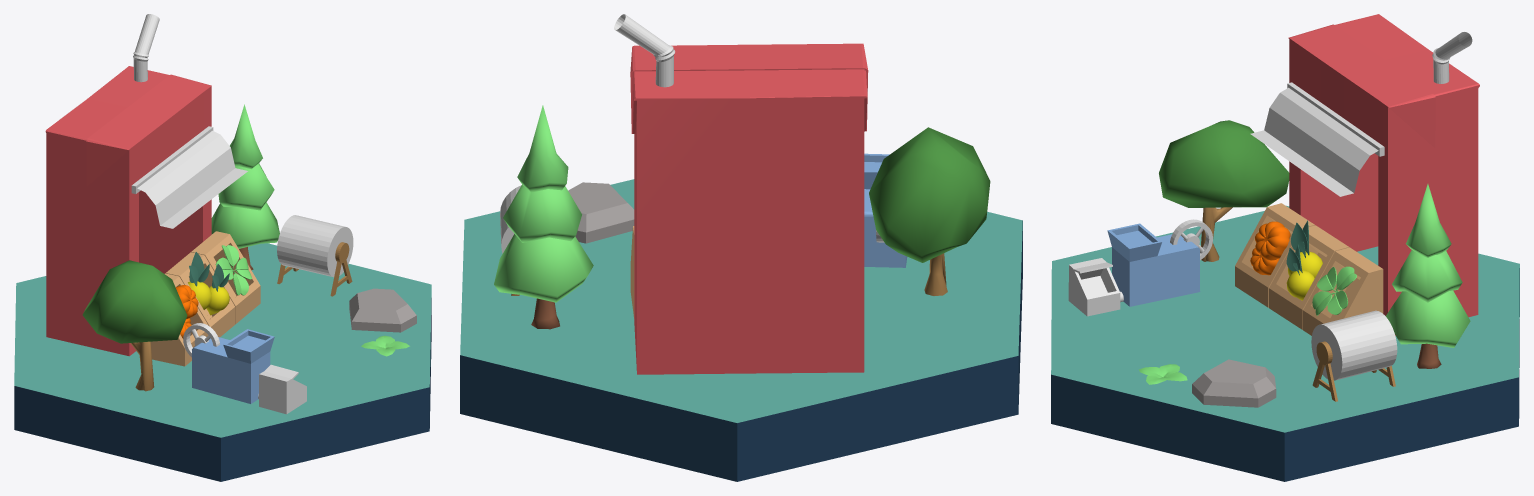
File: Macro - Market lv2 wm3.fbx
The picture shows the model from 3 angles, left to right: view 1: azimuth 30°, elevation 25°; view 2: azimuth 150°, elevation 25°; view 3: azimuth 270°, elevation 25°; orthographic projection. The views are drawn at different scales.
Visible parts, largest first — view 1: Cylinder.154, Juicebox Open, tree1 v:88 f:56, Plane.095, Tree_Spruce_tiny_01.003, Cube.001, Cylinder.001, Rock Type4 04 mesh.002, Cube.002, Cube.142, Cube.141, Cube.140 (+6 smaller); view 2: Cylinder.154, Juicebox Open, tree1 v:88 f:56, Tree_Spruce_tiny_01.003, Rock Type4 04 mesh.002, Cube.001, Cylinder; view 3: Cylinder.154, Juicebox Open, tree1 v:88 f:56, Tree_Spruce_tiny_01.003, Plane.095, Cube.001, Cylinder.001, Cube.142, Rock Type4 04 mesh.002, Cube.002, Cube.140, Cube.141 (+6 smaller).
Boxes of the visible parts, x1,y1,x2,y2 form: Cylinder.154: [14, 243, 431, 481]; Juicebox Open: [45, 66, 211, 356]; tree1 v:88 f:56: [82, 260, 187, 391]; Plane.095: [137, 130, 247, 228]; Tree_Spruce_tiny_01.003: [211, 104, 279, 270]; Cube.001: [192, 329, 274, 403]; Cylinder.001: [277, 215, 353, 277]; Rock Type4 04 mesh.002: [349, 288, 416, 332]; Cube.002: [259, 364, 306, 414]; Cube.142: [191, 231, 260, 324]; Cube.141: [166, 252, 235, 337]; Cube.140: [150, 273, 208, 366]; Cylinder.154: [460, 179, 1022, 481]; Juicebox Open: [630, 43, 868, 374]; tree1 v:88 f:56: [869, 127, 990, 295]; Tree_Spruce_tiny_01.003: [494, 105, 593, 329]; Rock Type4 04 mesh.002: [568, 182, 634, 243]; Cube.001: [864, 153, 907, 267]; Cylinder: [614, 14, 675, 87]; Cylinder.154: [1051, 205, 1519, 481]; Juicebox Open: [1288, 14, 1479, 335]; tree1 v:88 f:56: [1159, 120, 1289, 261]; Tree_Spruce_tiny_01.003: [1385, 184, 1470, 368]; Plane.095: [1250, 87, 1378, 196]; Cube.001: [1107, 223, 1200, 306]; Cylinder.001: [1311, 310, 1397, 380]; Cube.142: [1303, 247, 1383, 335]; Rock Type4 04 mesh.002: [1192, 359, 1276, 407]; Cube.002: [1068, 258, 1120, 316]; Cube.140: [1235, 203, 1314, 307]; Cube.141: [1269, 225, 1349, 329].
Bounding box in the file's own units: 197 × 138 × 172.
